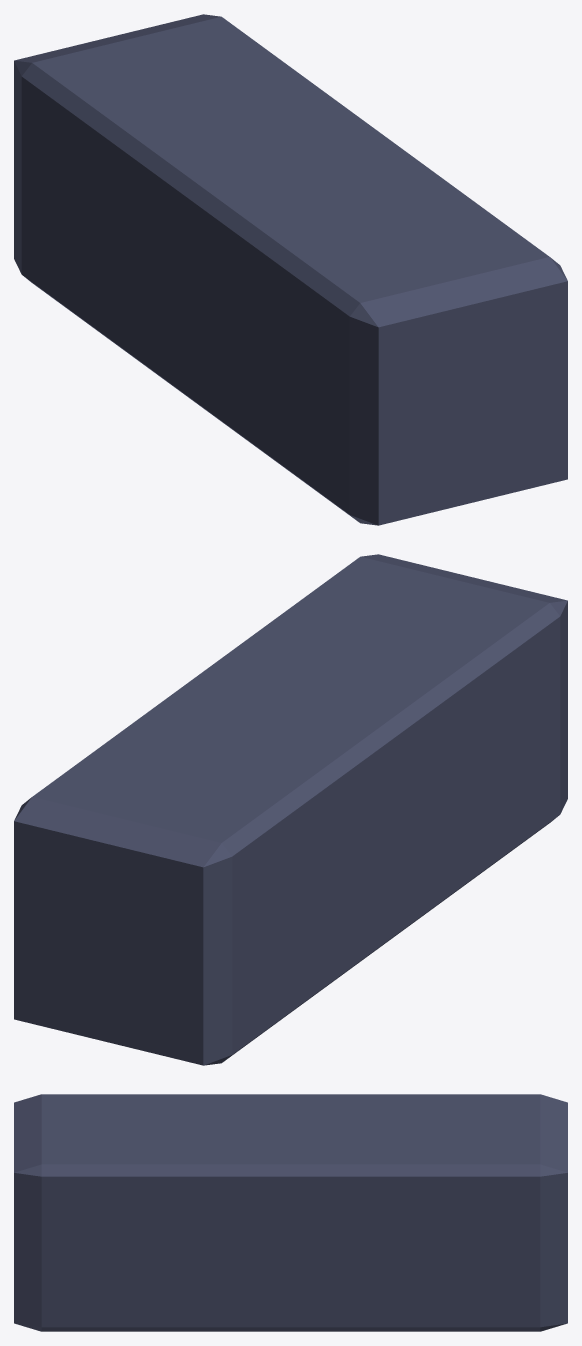
The model's file is BeveledStandardBrick.fbx.
3 views of the same model, one above another, from view 1: azimuth 30°, elevation 25°; view 2: azimuth 150°, elevation 25°; view 3: azimuth 270°, elevation 25° (orthographic). The views are drawn at different scales.
Visible parts, largest first — view 1: BeveledStandardBrick; view 2: BeveledStandardBrick; view 3: BeveledStandardBrick.
Part boxes in pixels (<box>): BeveledStandardBrick: <box>14,14,567,525</box>; BeveledStandardBrick: <box>14,554,567,1065</box>; BeveledStandardBrick: <box>14,1094,567,1331</box>.
Size of the model in its own units: 200 by 200 by 600.
